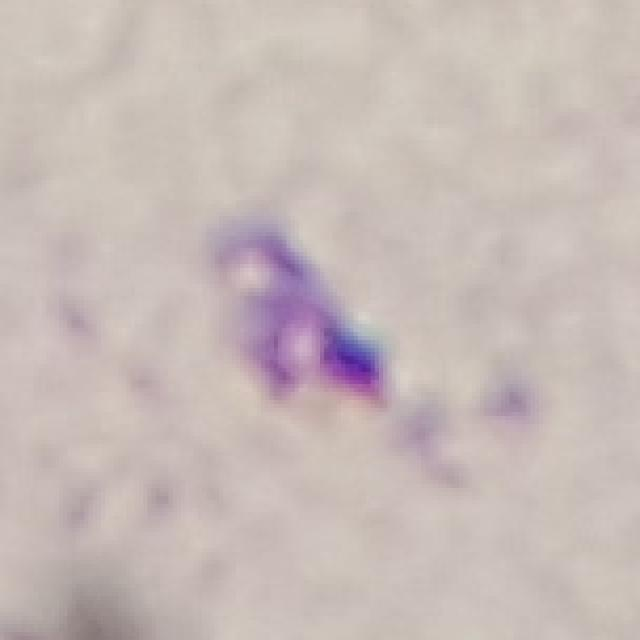non-sperm: (184, 210, 403, 421)
